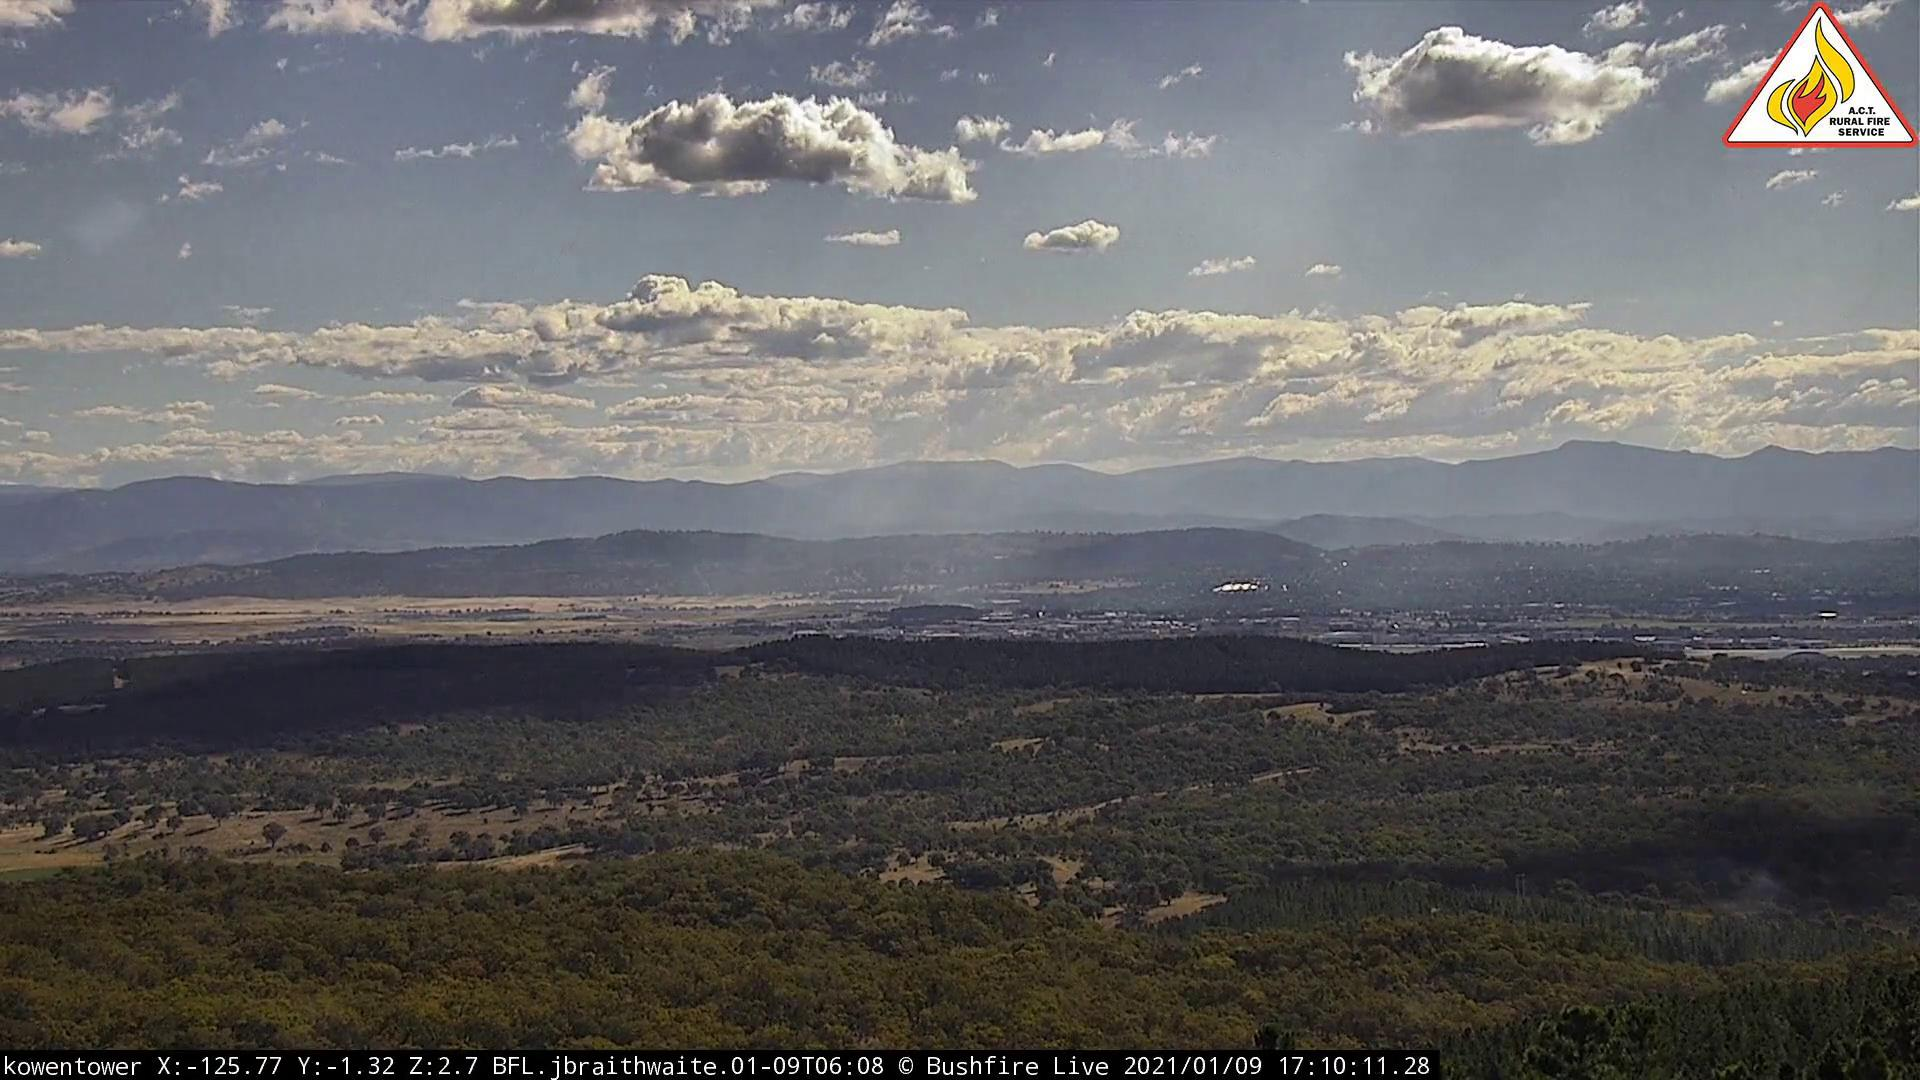instance_salient_object: (698, 520, 993, 611)
